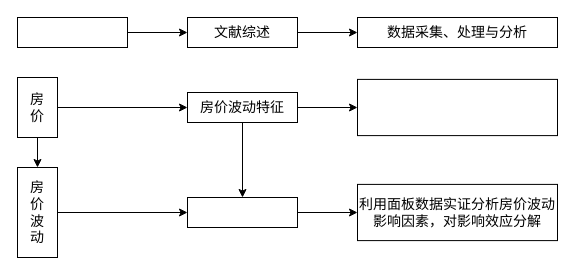
The diagram is 575 pixels wide and 275 high, and some of its shapes have lost their labels. Each missing label, with the centre of its shape:
利用Hedonic模型和网络大数据实证分析: point (457, 107)
影响因素及效应: point (242, 212)
问题提出: point (72, 32)
